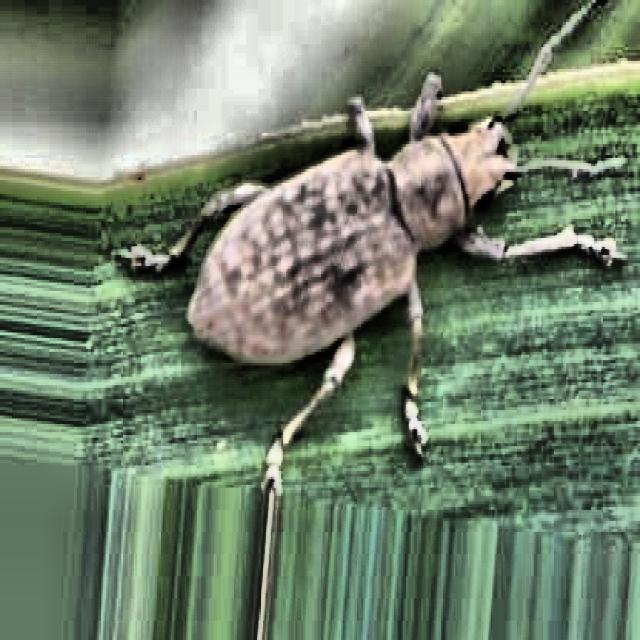Stink bug: (142, 14, 640, 437)
